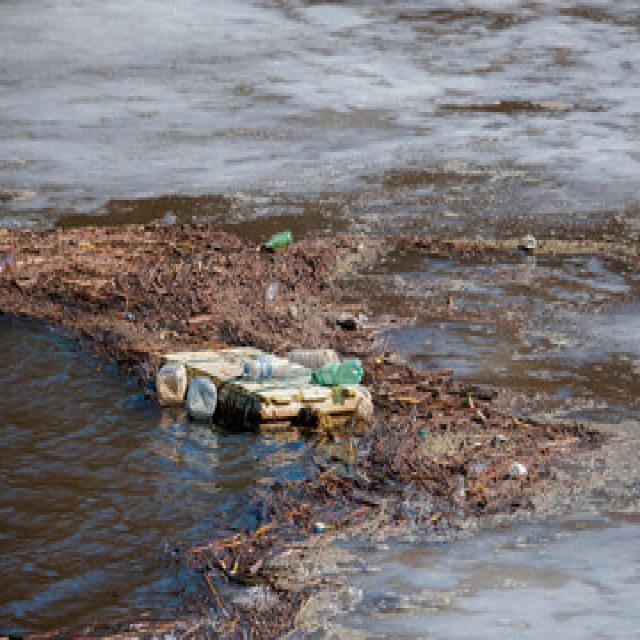Plastic: (312, 355, 372, 388), (238, 357, 297, 385), (153, 358, 187, 405), (185, 372, 216, 422), (261, 226, 294, 254)
